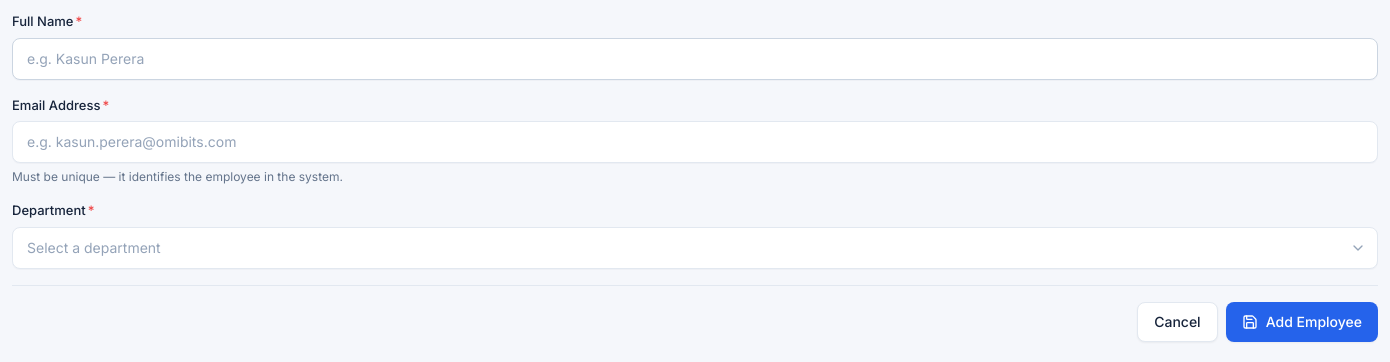
Test case: EmployeeForm validation › rejects an invalid email address
Type "Kasun Perera" into the field labelled "Full Name*" at x=695, y=58, box [12,38,1378,80]
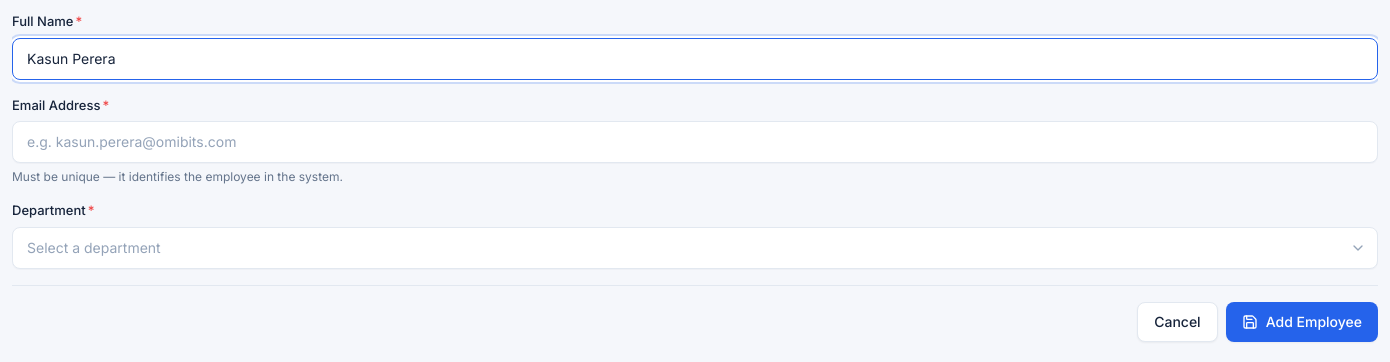
Type "not-an-email" into the field labelled "Email Address*" at x=695, y=142, box [12,121,1378,163]
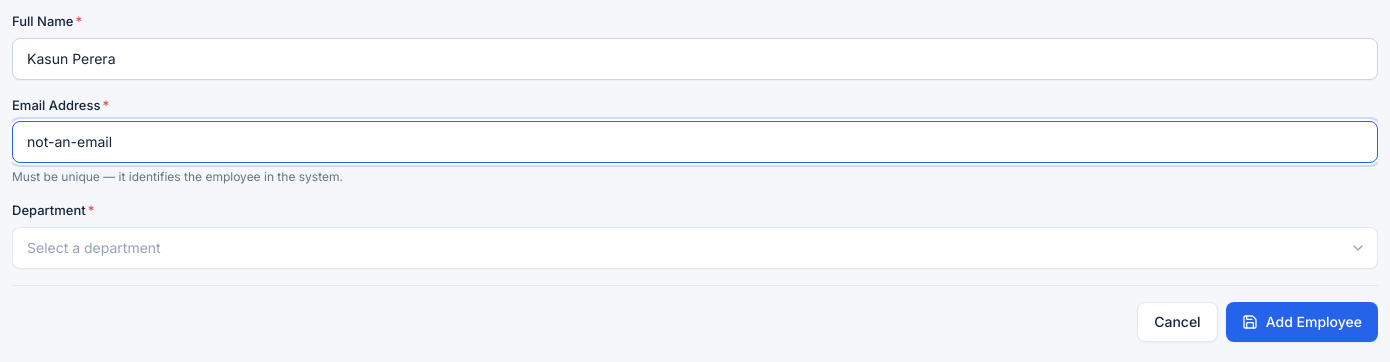
Select "IT" in the dropdown labelled "Department*" at x=695, y=248, box [12,226,1378,268]
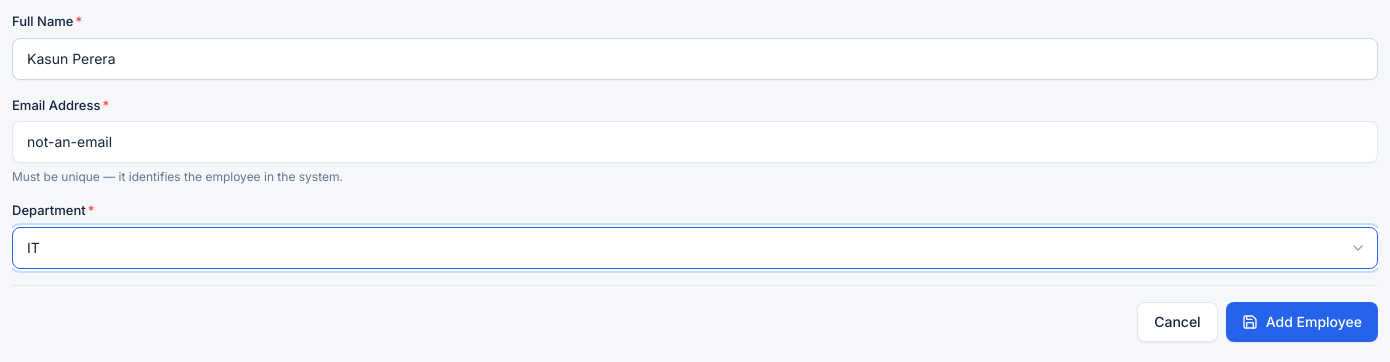
Click the button "Add Employee" at x=1302, y=322, box [1226,302,1378,342]
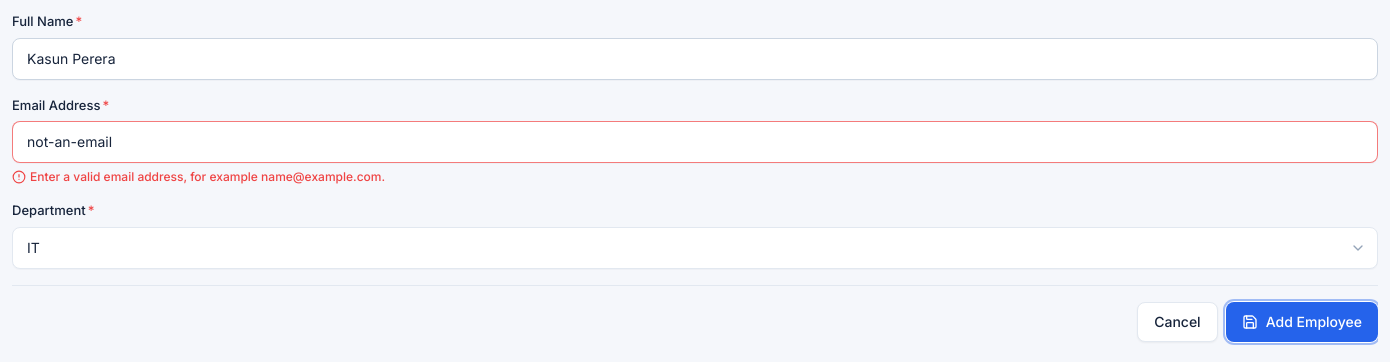
Expected: the text "Enter a valid email address, for example name@example.com." is shown, [12,169,385,184]
